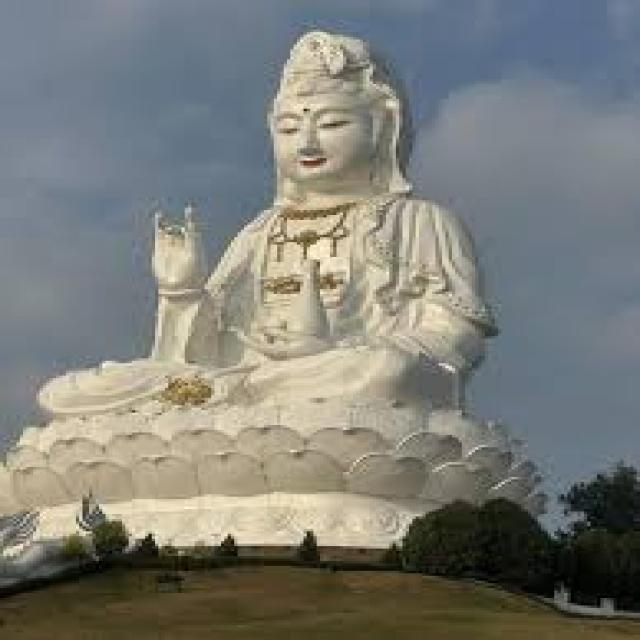Guan Yin: (144, 28, 483, 430)
